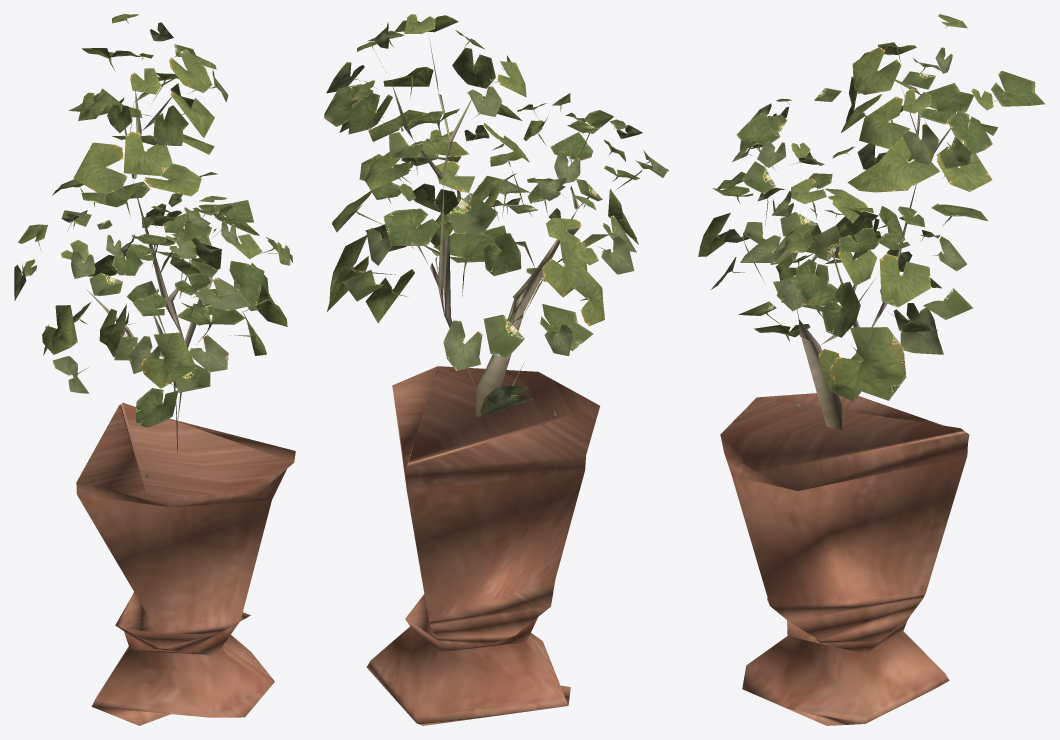
Rendered from potted_plant_01.glb.
The picture shows the model from 3 angles, left to right: view 1: azimuth 30°, elevation 25°; view 2: azimuth 150°, elevation 25°; view 3: azimuth 270°, elevation 25°; orthographic projection. The views are drawn at different scales.
Parts seen in each view (by area): view 1: potted_plant_01_pebbles, potted_plant_01_leaves; view 2: potted_plant_01_pebbles, potted_plant_01_leaves; view 3: potted_plant_01_pebbles, potted_plant_01_leaves.
Part boxes in pixels (x1,y1,x2,y2): potted_plant_01_pebbles: [76, 91, 295, 725]; potted_plant_01_leaves: [14, 14, 292, 427]; potted_plant_01_pebbles: [366, 83, 599, 725]; potted_plant_01_leaves: [324, 14, 669, 416]; potted_plant_01_pebbles: [720, 87, 969, 725]; potted_plant_01_leaves: [698, 14, 1045, 401].
Bounding box in the file's own units: 0.5775 × 1.33 × 0.6293.
2 materials, 2 textured.
